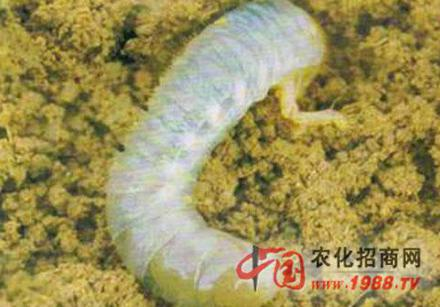grub: (98, 1, 341, 307)
